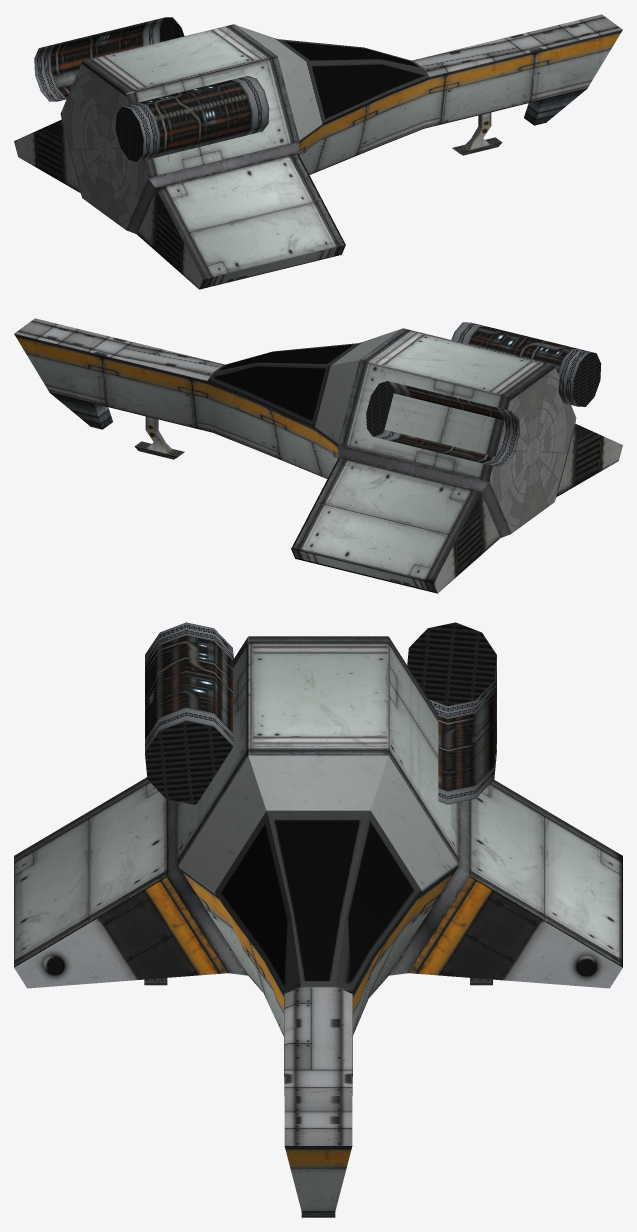
The picture shows the model from 3 angles, top to bottom: view 1: azimuth 30°, elevation 25°; view 2: azimuth 150°, elevation 25°; view 3: azimuth 270°, elevation 25°; orthographic projection. The views are drawn at different scales.
Parts seen in each view (by area): view 1: StarShip, StarShip Engine, StarShip Engine1, StarShip FrontSkid; view 2: StarShip, StarShip Engine, StarShip Engine1, StarShip FrontSkid; view 3: StarShip, StarShip Engine, StarShip Engine1.
Boxes of the visible parts, bbox=[...] form: StarShip: bbox=[14, 14, 622, 289]; StarShip Engine: bbox=[115, 76, 269, 161]; StarShip Engine1: bbox=[34, 17, 184, 101]; StarShip FrontSkid: bbox=[452, 112, 502, 155]; StarShip: bbox=[14, 318, 622, 593]; StarShip Engine: bbox=[451, 322, 601, 406]; StarShip Engine1: bbox=[366, 381, 519, 467]; StarShip FrontSkid: bbox=[134, 416, 184, 459]; StarShip: bbox=[14, 636, 622, 1217]; StarShip Engine: bbox=[145, 622, 233, 804]; StarShip Engine1: bbox=[407, 622, 496, 804].
Size of the model in its own units: 11.98 by 3.61 by 7.51.
1 material, 1 textured.
